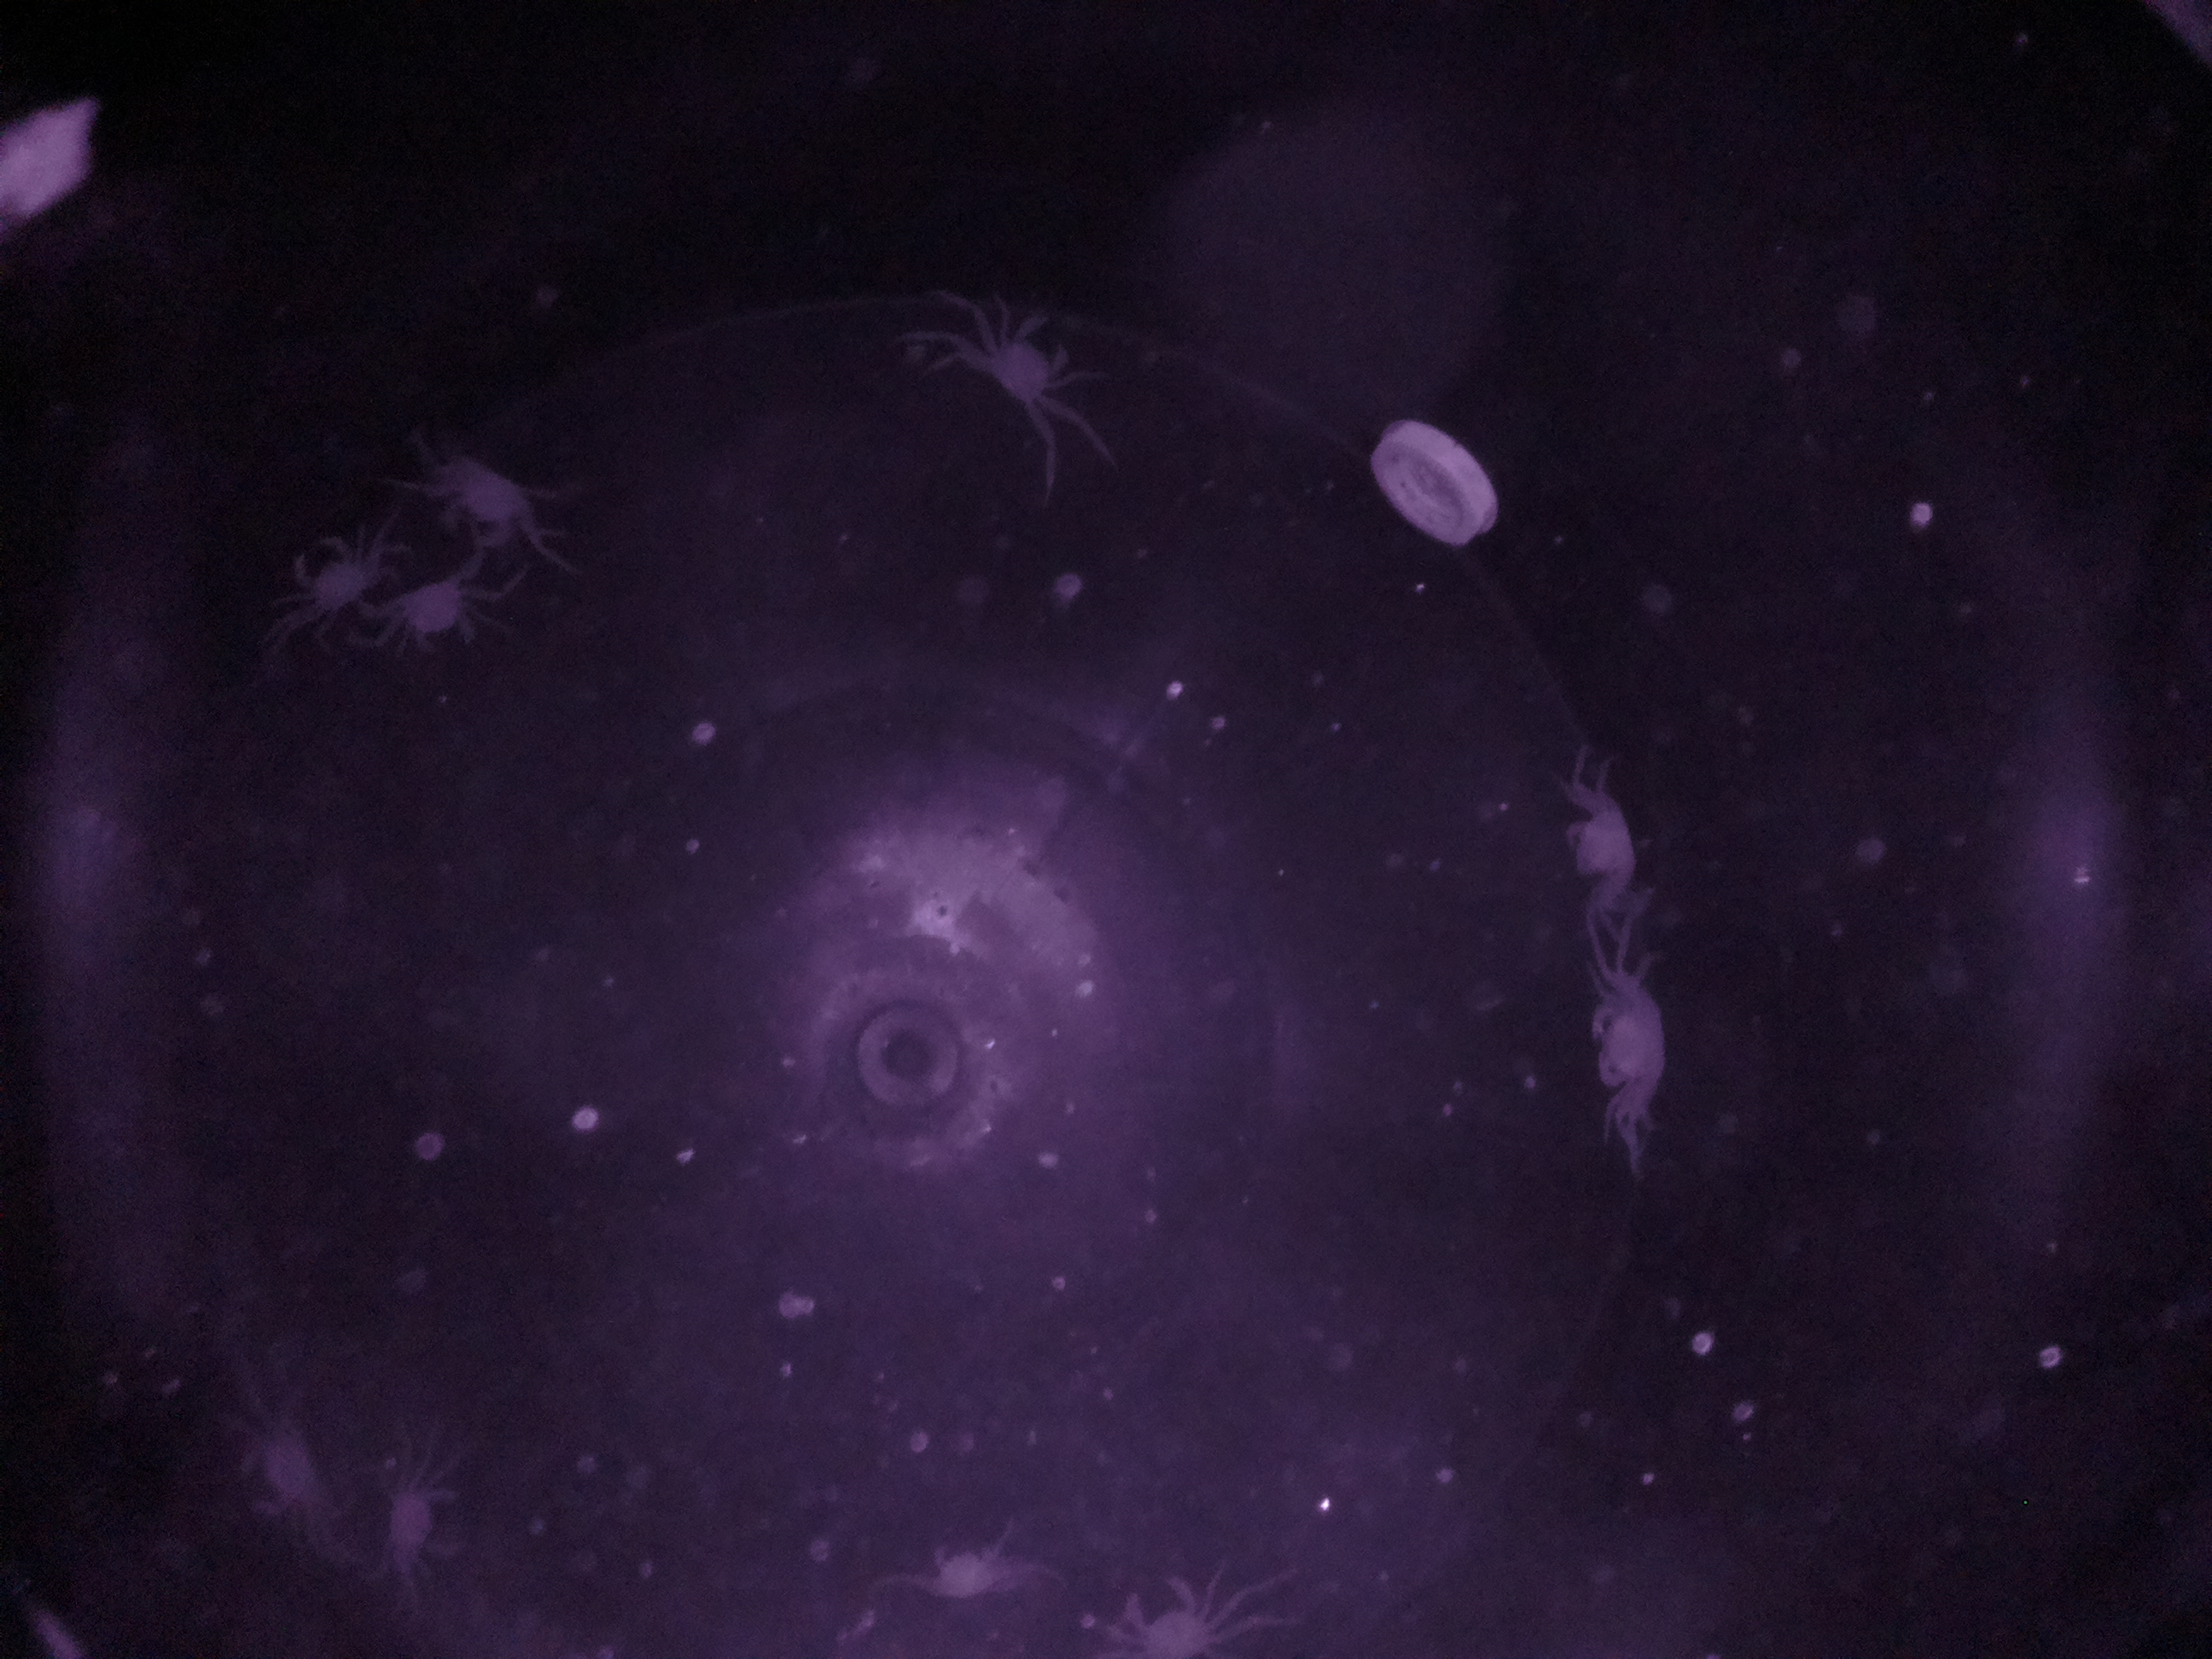Crab: (369, 561, 507, 680), (1576, 960, 1689, 1103), (972, 301, 1097, 429)
